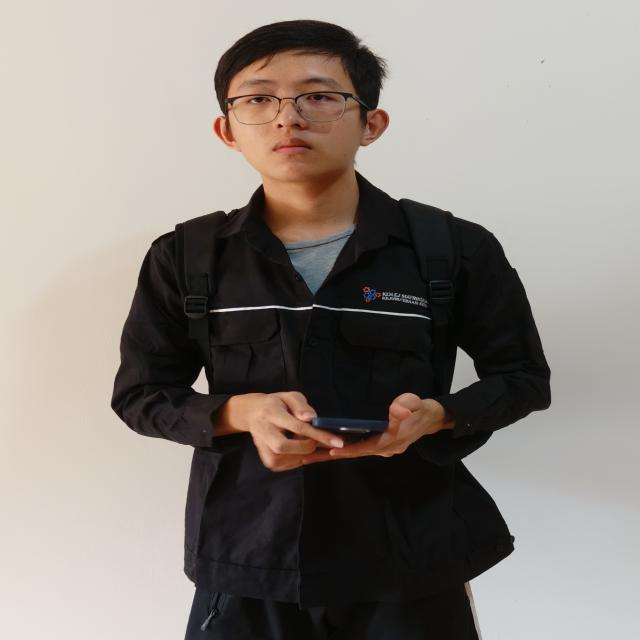person_with_labcoat: (113, 20, 550, 640)
